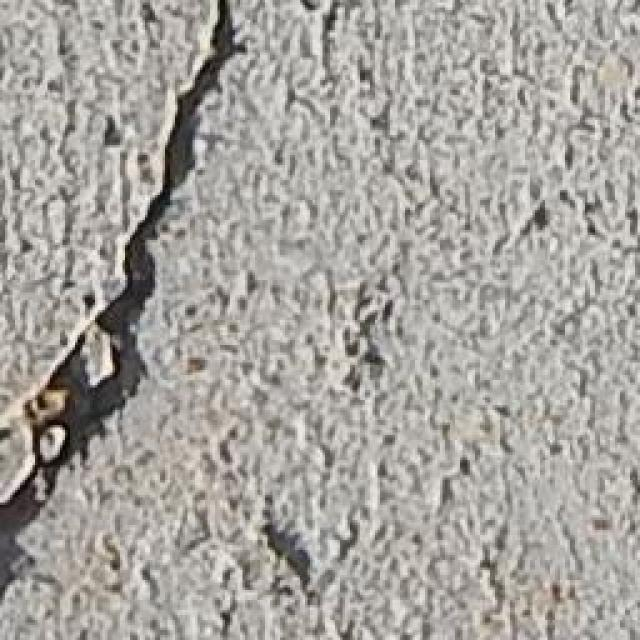concrete-crack: (0, 0, 254, 593), (265, 520, 312, 595)
